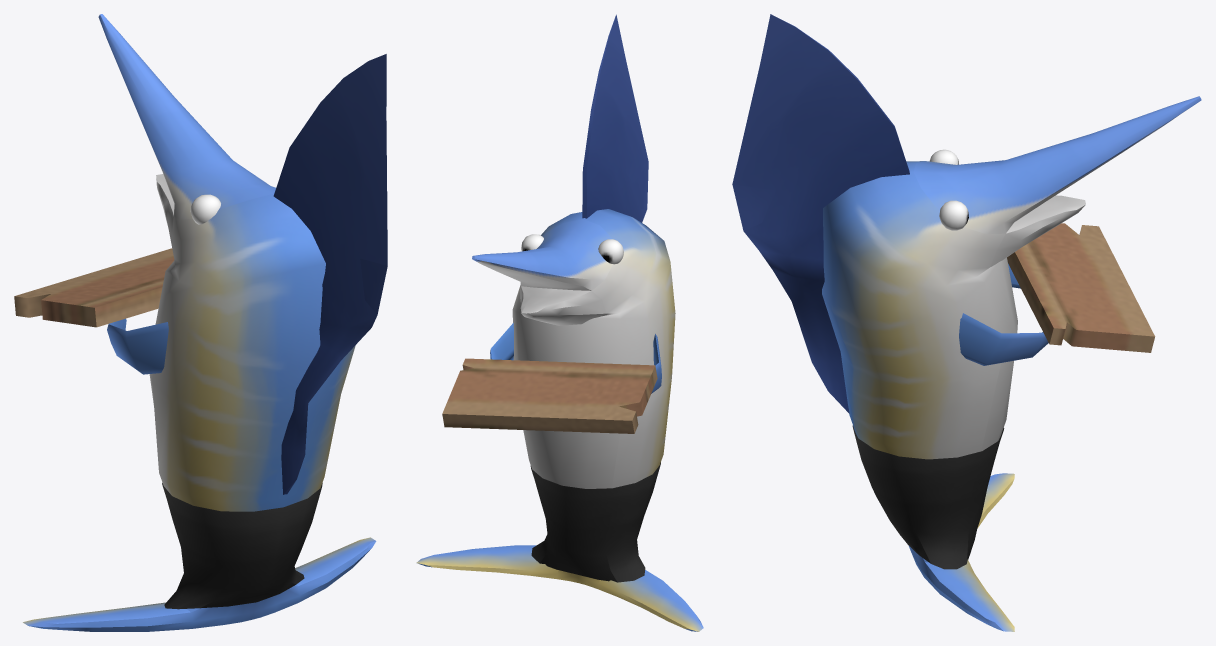
The model's file is kajiki_idle_c_07.fbx.
The picture shows the model from 3 angles, left to right: view 1: azimuth 30°, elevation 25°; view 2: azimuth 150°, elevation 25°; view 3: azimuth 270°, elevation 25°; orthographic projection. The views are drawn at different scales.
Visible parts, largest first — view 1: I_c_07; view 2: I_c_07; view 3: I_c_07.
Part boxes in pixels (x1=…): I_c_07: x1=14, y1=14, x2=387, y2=631; I_c_07: x1=416, y1=14, x2=703, y2=631; I_c_07: x1=732, y1=14, x2=1201, y2=631.
Bounding box in the file's own units: 1.46 × 2.45 × 1.83.
Materials: 1 (1 with a texture image).
